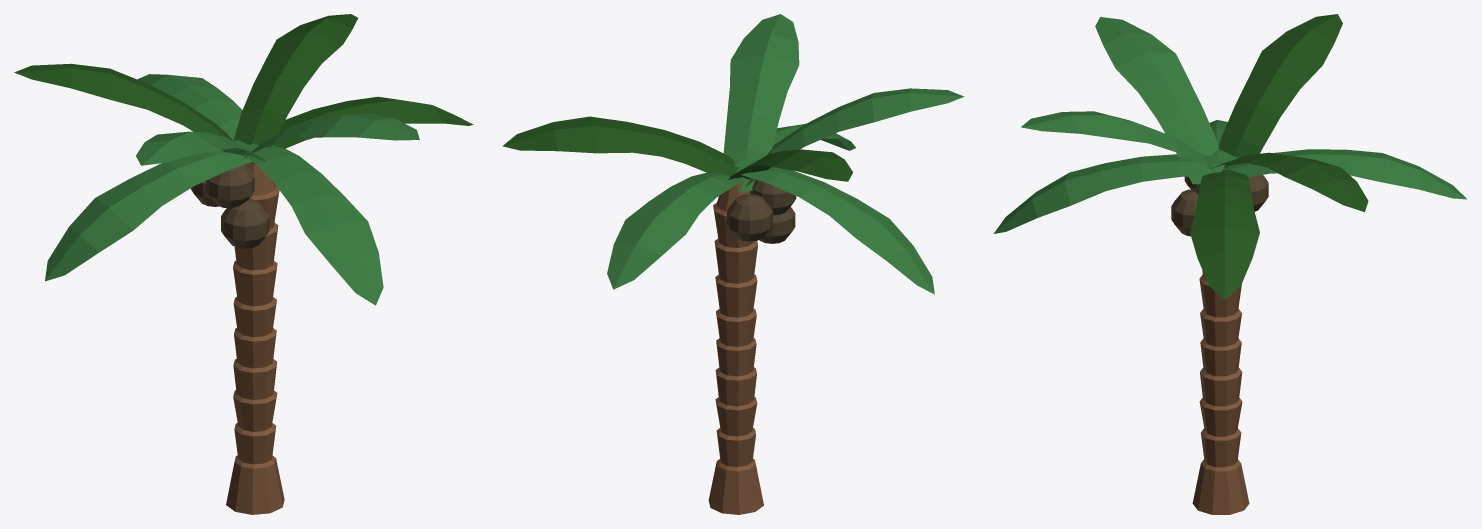
The model's file is coconut_tree.glb.
3 renders of one model, left to right at view 1: azimuth 30°, elevation 25°; view 2: azimuth 150°, elevation 25°; view 3: azimuth 270°, elevation 25°, orthographic. The views are drawn at different scales.
Parts seen in each view (by area): view 1: Cylinder.001; view 2: Cylinder.001; view 3: Cylinder.001.
Part boxes in pixels (x1,y1,x2,y2): Cylinder.001: (14,14,473,514); Cylinder.001: (502,14,964,514); Cylinder.001: (994,14,1466,514).
Bounding box in the file's own units: 65.41 × 62.77 × 65.74.
